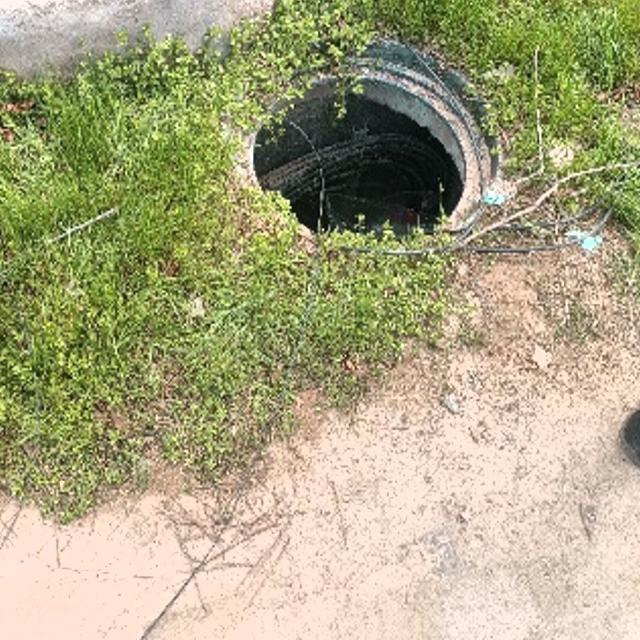lose: (238, 38, 496, 255)
